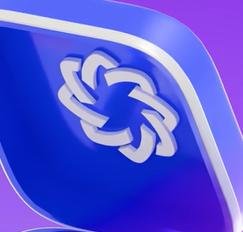ABB: (55, 47, 183, 166)
